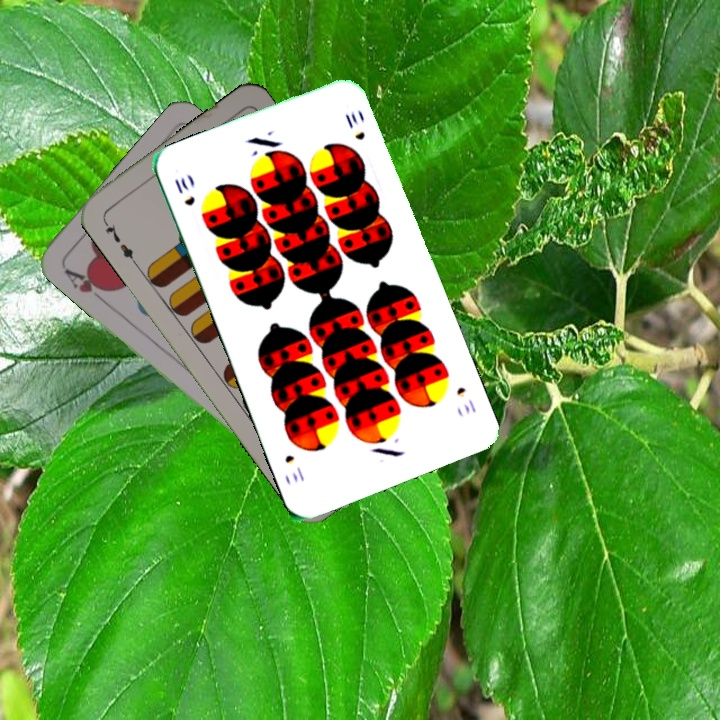E7: (99, 216, 139, 267)
HA: (60, 264, 113, 306)
S10: (170, 173, 198, 209), (452, 382, 479, 417)
